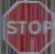Stop: (4, 0, 52, 51)
